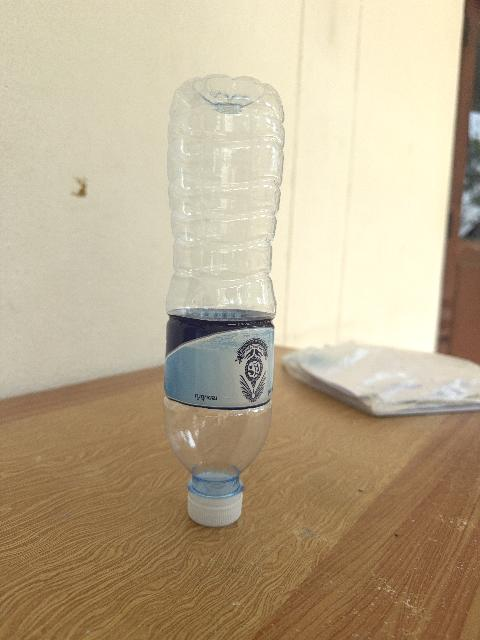bottle: (163, 75, 282, 526)
